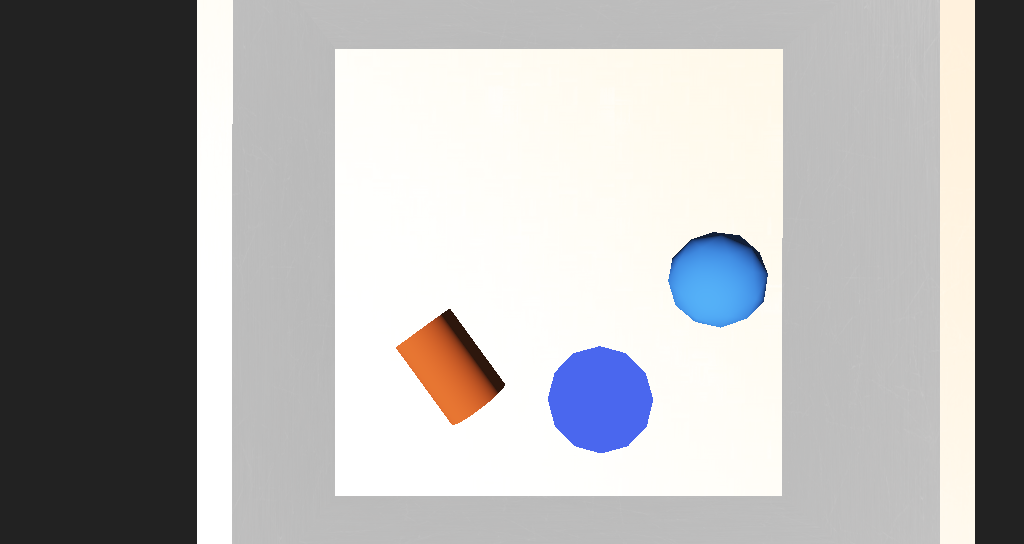cone: (391, 282, 472, 339)
cylinder: (502, 303, 563, 356)
sphere: (573, 251, 640, 293)
